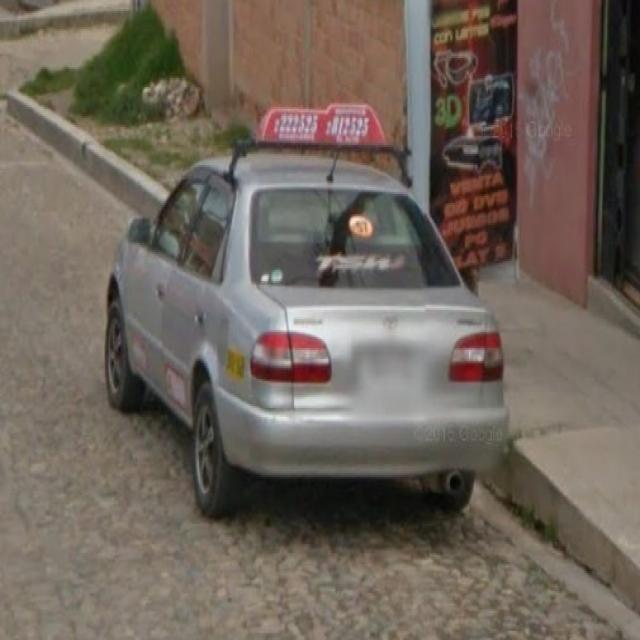cars: (105, 128, 518, 516)
